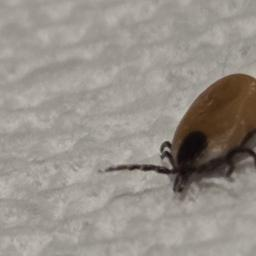Ixodes scapularis: (98, 70, 255, 197)
